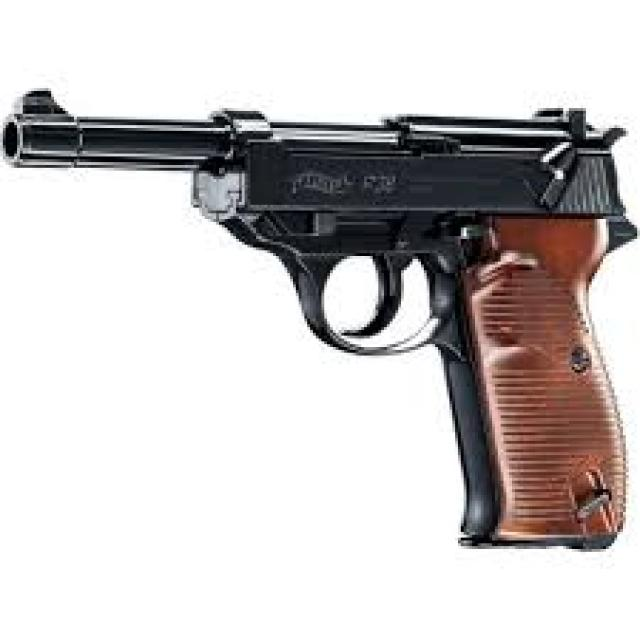pistol: (1, 83, 640, 562)
